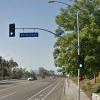Tree: (49, 5, 100, 86)
